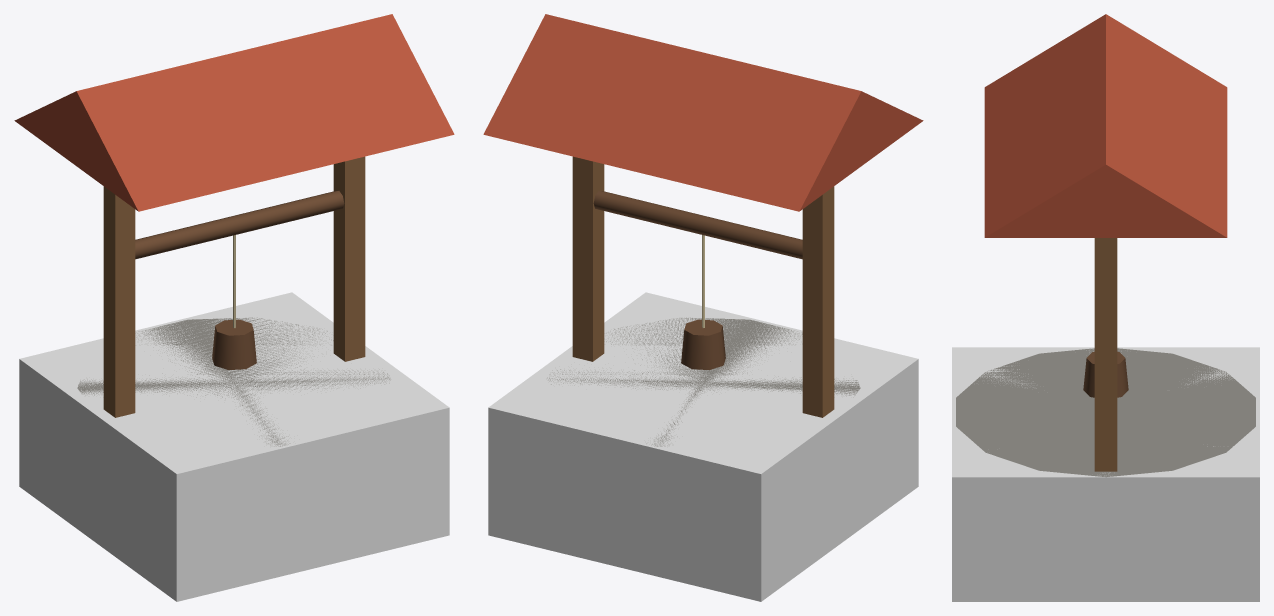
Rendered from pozo.glb.
3 views of the same model, side by side, from view 1: azimuth 30°, elevation 25°; view 2: azimuth 150°, elevation 25°; view 3: azimuth 270°, elevation 25° (orthographic). The views are drawn at different scales.
Parts seen in each view (by area): view 1: COL_0, pozo_Malla; view 2: COL_0, pozo_Malla; view 3: pozo_Malla, COL_0.
Boxes of the visible parts, bbox=[...] form: COL_0: bbox=[19, 292, 449, 601]; pozo_Malla: bbox=[14, 14, 454, 446]; COL_0: bbox=[488, 292, 918, 601]; pozo_Malla: bbox=[483, 14, 923, 446]; pozo_Malla: bbox=[956, 14, 1255, 477]; COL_0: bbox=[952, 347, 1259, 601].
Size of the model in its own units: 2.2 by 3.05 by 1.9.
